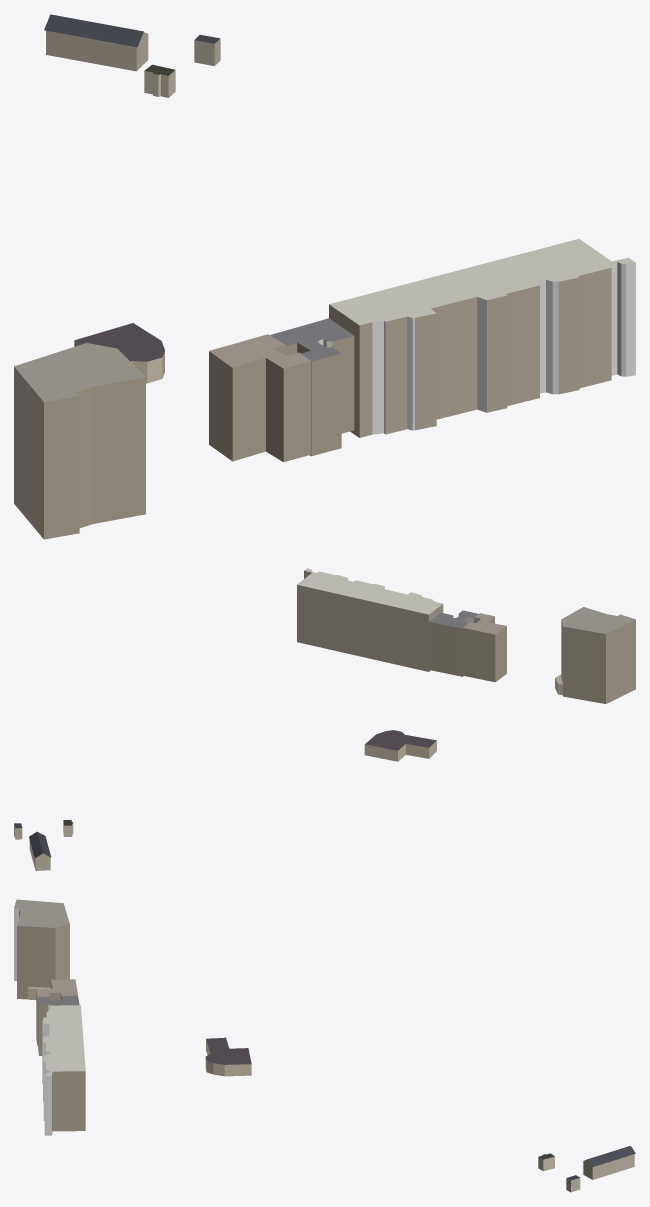
3 views of the same model, one above another, from view 1: azimuth 30°, elevation 25°; view 2: azimuth 150°, elevation 25°; view 3: azimuth 270°, elevation 25° (orthographic). The views are drawn at different scales.
Visible parts, largest first — view 1: tuile; view 2: tuile; view 3: tuile.
Boxes of the visible parts, left/top/right/bottom form: tuile: left=14, top=14, right=635, bottom=539; tuile: left=14, top=568, right=635, bottom=870; tuile: left=14, top=899, right=635, bottom=1192.
Bounding box in the file's own units: 166 × 48.45 × 242.
